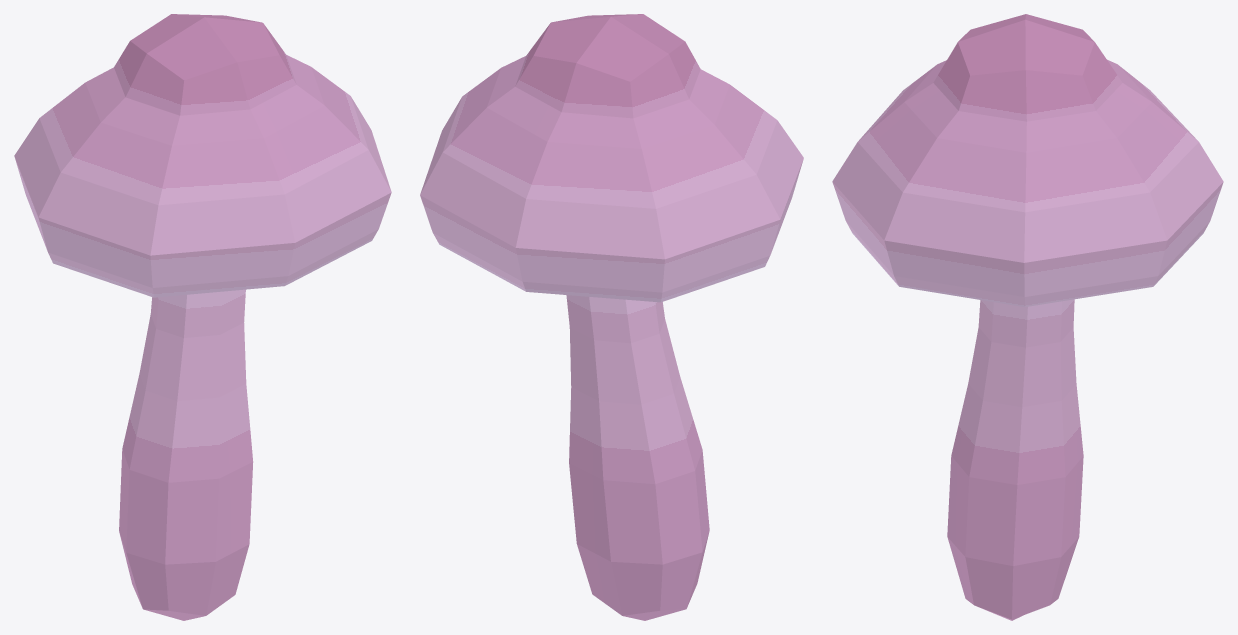
File: RosyBonnet_Small.glb
3 views of the same model, side by side, from view 1: azimuth 30°, elevation 25°; view 2: azimuth 150°, elevation 25°; view 3: azimuth 270°, elevation 25° (orthographic). The views are drawn at different scales.
Visible parts, largest first — view 1: Cube.002; view 2: Cube.002; view 3: Cube.002.
Part boxes in pixels (left/top/right/bottom): Cube.002: left=14, top=14, right=391, bottom=620; Cube.002: left=420, top=14, right=803, bottom=620; Cube.002: left=832, top=14, right=1223, bottom=620.
Bounding box in the file's own units: 3.53 × 6 × 3.46.
Materials: 1 (1 with a texture image).
